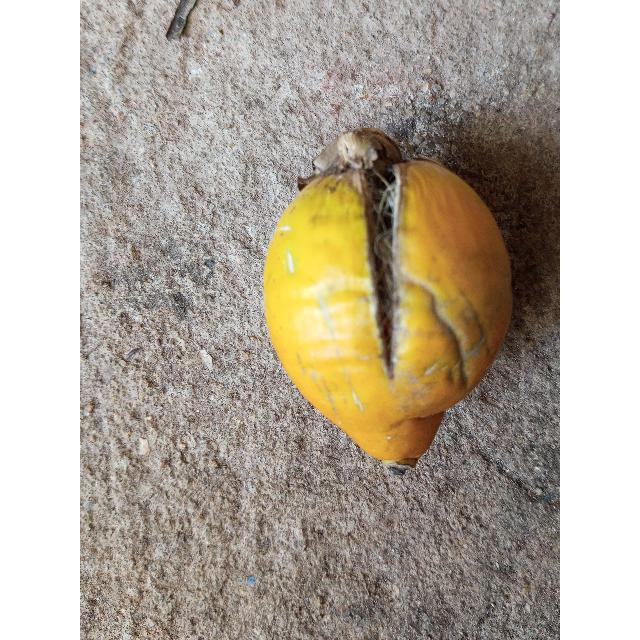damaged: (262, 128, 513, 469)
